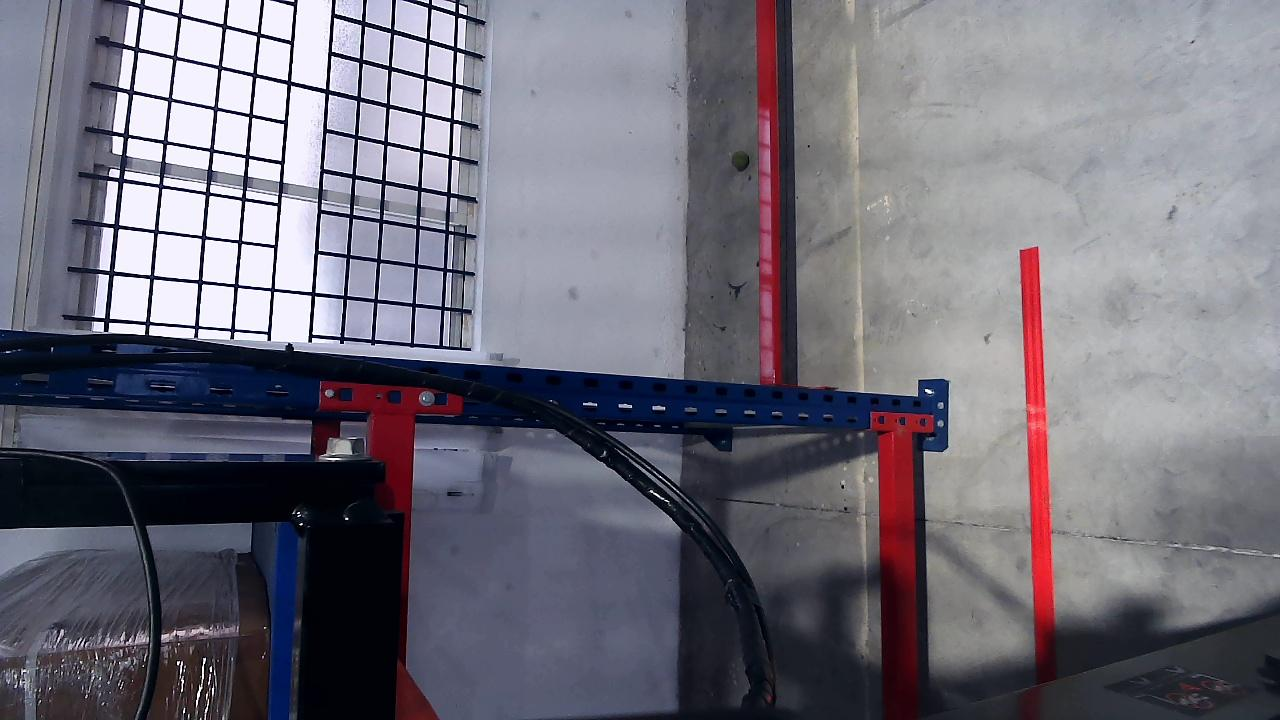h_rack: (892, 428, 922, 704)
red_line: (1020, 245, 1058, 678)
